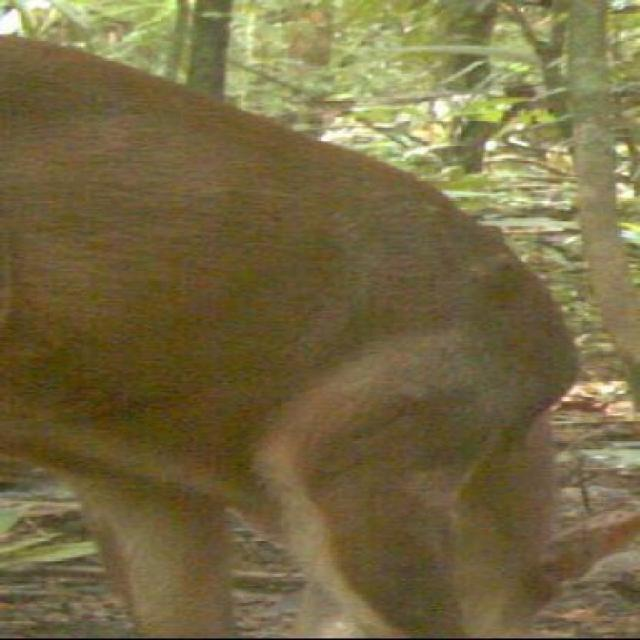Deer: (0, 19, 612, 638)
